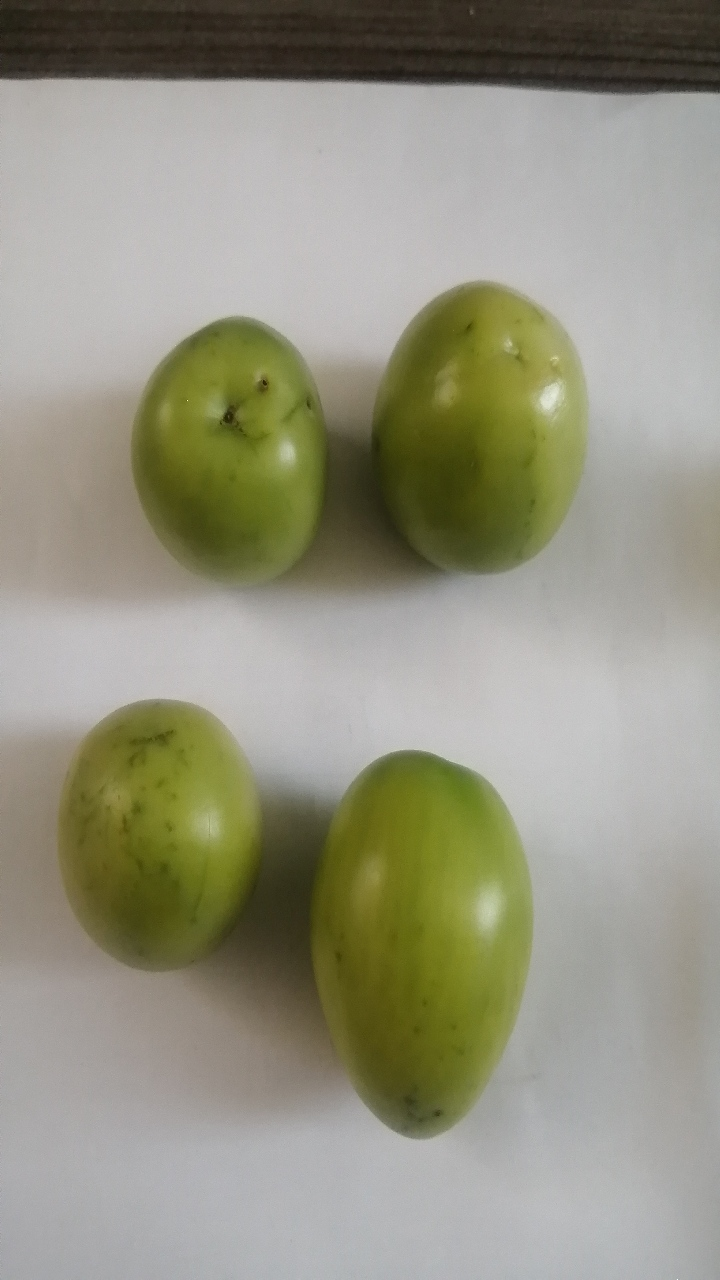tomateVerde: (289, 731, 535, 1169), (360, 280, 617, 580), (48, 679, 261, 994), (121, 295, 340, 597)
